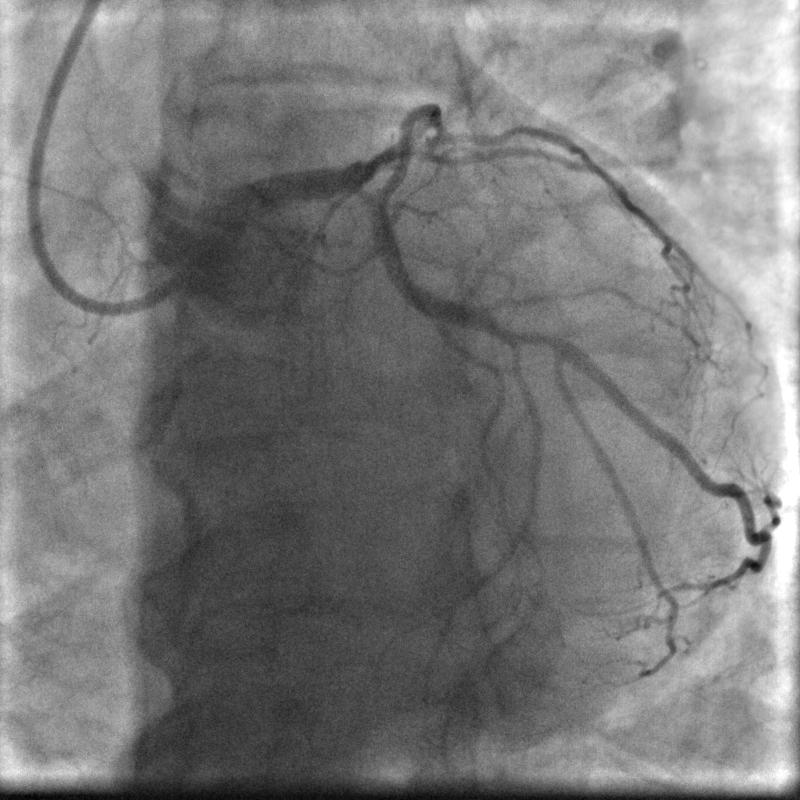Stenosis: (505, 329, 558, 355)
